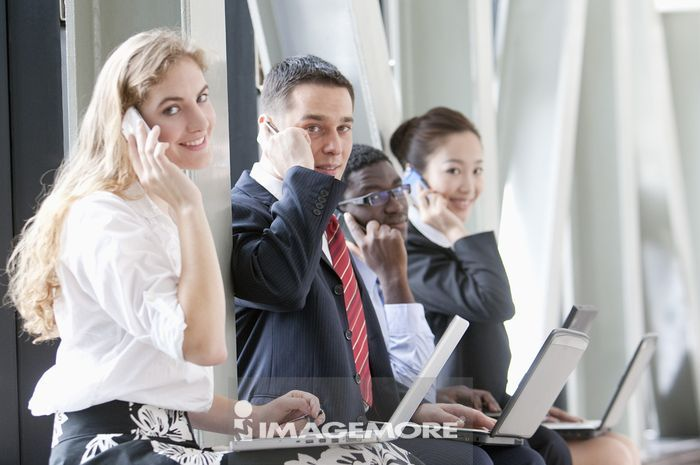phone: (121, 106, 156, 151)
talk: (118, 81, 213, 227), (254, 107, 353, 187), (337, 177, 410, 281)
